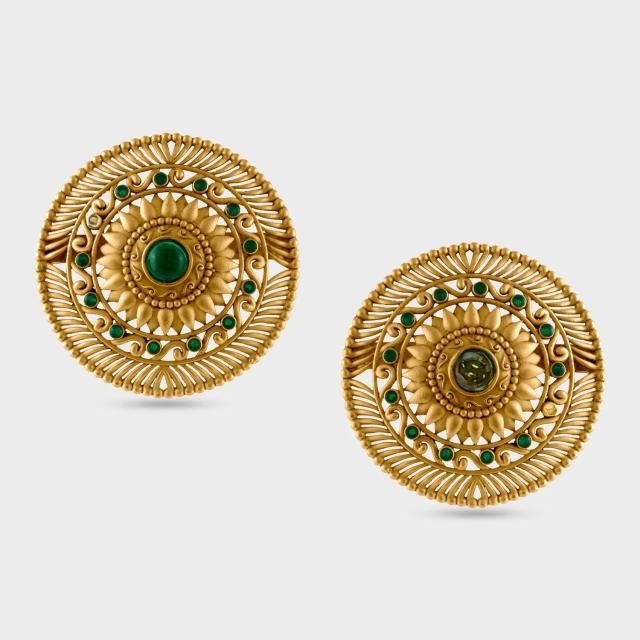missing gem: (453, 349, 495, 394), (543, 403, 557, 416), (88, 215, 101, 227)
